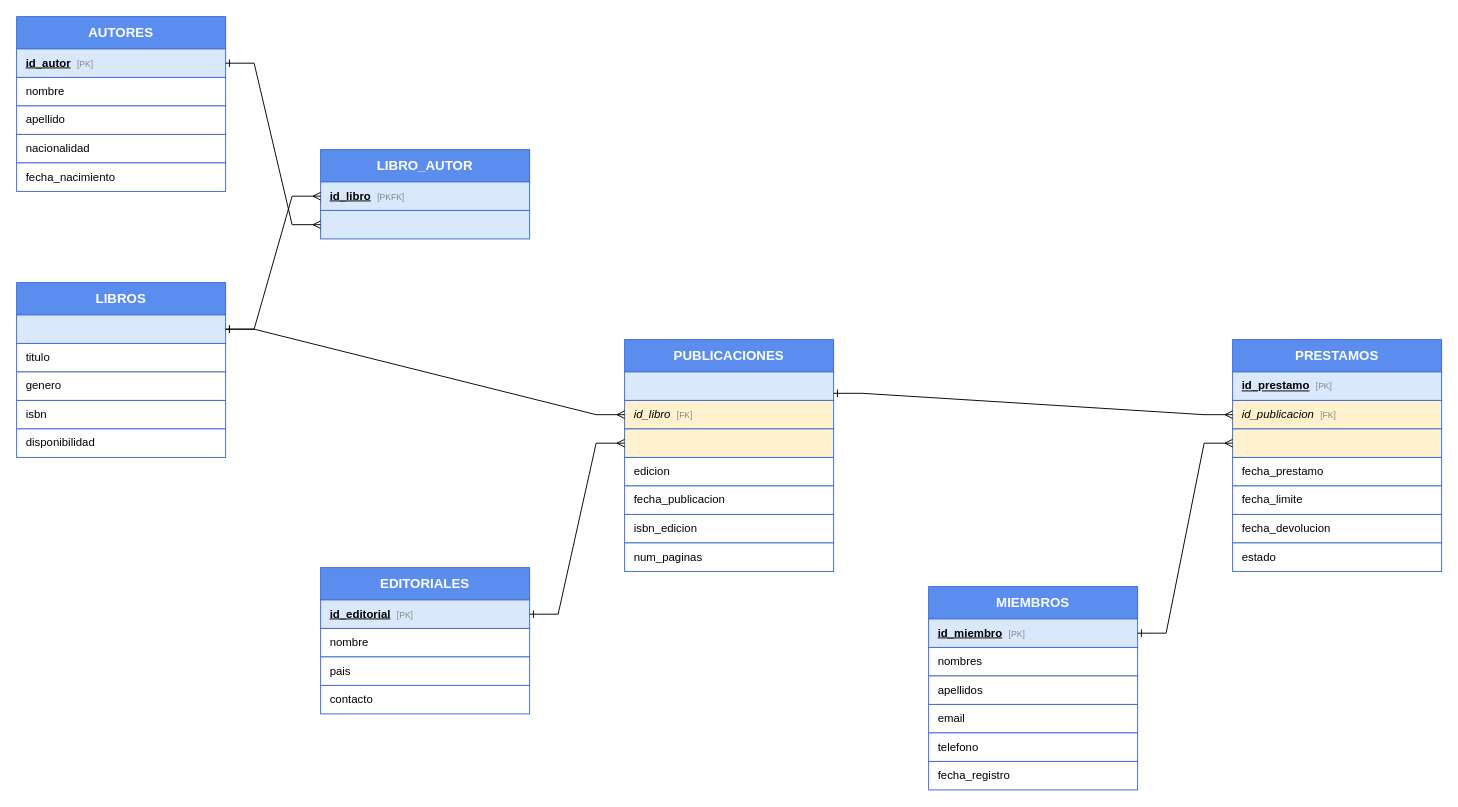
The diagram is 1458 pixels wide and 807 high, and some of its shapes have lost their labels. Each missing label, with the centre of its shape:
"id_autor [PKFK]" belongs at (425,224).
"id_editorial [FK]" belongs at (729,442).
"id_libro [PK]" belongs at (121,328).
"id_miembro [FK]" belongs at (1337,442).
"id_publicacion [PK]" belongs at (729,385).
